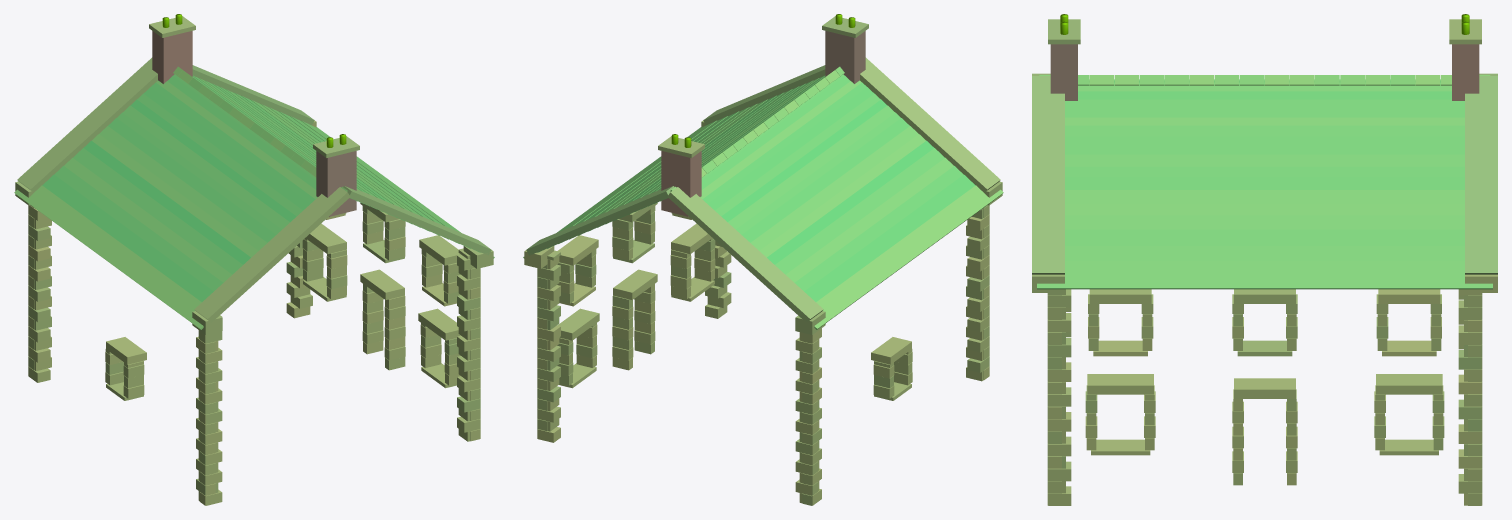
The model's file is SM_Bld_094_Stone.glb.
The picture shows the model from 3 angles, left to right: view 1: azimuth 30°, elevation 25°; view 2: azimuth 150°, elevation 25°; view 3: azimuth 270°, elevation 25°; orthographic projection. The views are drawn at different scales.
Visible parts, largest first — view 1: SM_Bld_094_Stone; view 2: SM_Bld_094_Stone; view 3: SM_Bld_094_Stone.
Part boxes in pixels (x1,y1,x2,y2): SM_Bld_094_Stone: (14,14,494,505); SM_Bld_094_Stone: (523,14,1003,505); SM_Bld_094_Stone: (1032,14,1497,505).
Bounding box in the file's own units: 9.11 × 9.78 × 10.22.
